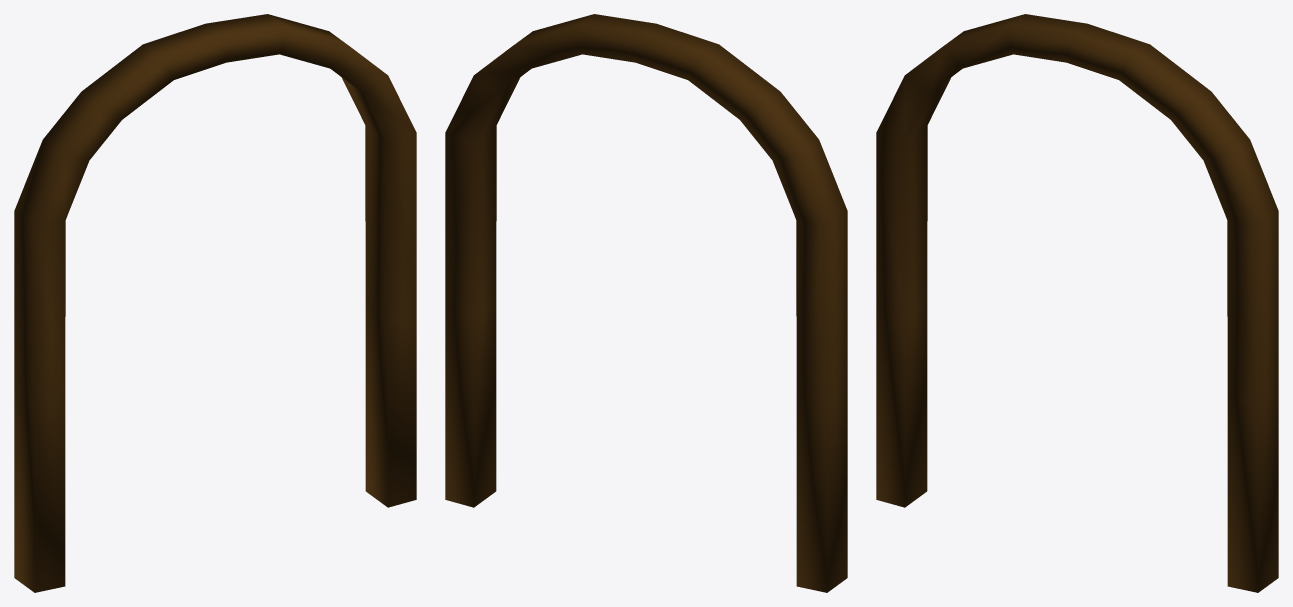
Rendered from KHIP_Door_Frame.FBX.
3 renders of one model, left to right at view 1: azimuth 30°, elevation 25°; view 2: azimuth 150°, elevation 25°; view 3: azimuth 330°, elevation 25°, orthographic.
Visible parts, largest first — view 1: KHIP_Door_Frame; view 2: KHIP_Door_Frame; view 3: KHIP_Door_Frame.
Part boxes in pixels (x1,y1,x2,y2): KHIP_Door_Frame: (14, 14, 416, 592); KHIP_Door_Frame: (445, 14, 847, 592); KHIP_Door_Frame: (876, 14, 1278, 592).
Size of the model in its own units: 75.35 by 95.72 by 7.67.
